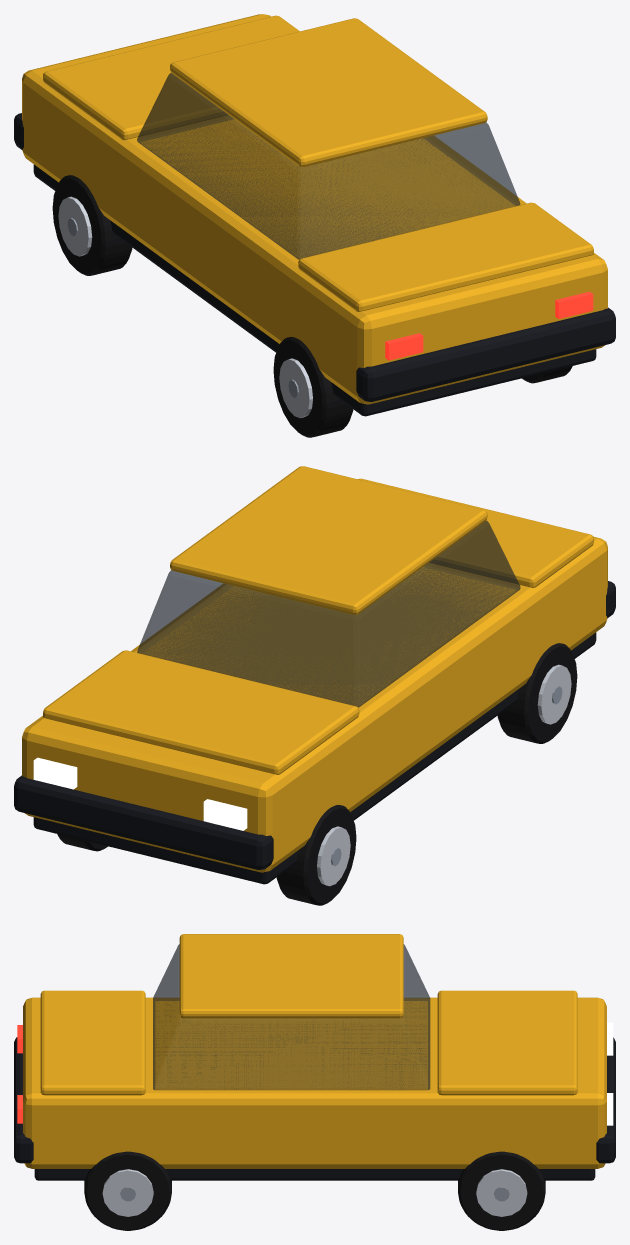
Rendered from veh_taxi.glb.
The picture shows the model from 3 angles, top to bottom: view 1: azimuth 30°, elevation 25°; view 2: azimuth 150°, elevation 25°; view 3: azimuth 270°, elevation 25°; orthographic projection. The views are drawn at different scales.
Parts seen in each view (by area): view 1: Body, Glass, Roof, Boot, Hood, Bumper_R, Skirt, Wheel_RL, Wheel_FL, Wheel_FL_Rim, Wheel_RL_Rim, Taillight_L (+1 smaller); view 2: Body, Glass, Roof, Hood, Bumper_F, Boot, Skirt, Wheel_FL, Wheel_RL, Wheel_RL_Rim, Wheel_FL_Rim, Headlight_R (+1 smaller); view 3: Body, Glass, Roof, Hood, Boot, Skirt, Wheel_FR, Wheel_RR, Wheel_FR_Rim, Wheel_RR_Rim, Bumper_R, Bumper_F.
Boxes of the visible parts, box(x1,y1,x2,y2) form: Body: box(22, 14, 607, 404); Glass: box(137, 73, 520, 259); Roof: box(170, 18, 487, 167); Boot: box(298, 202, 593, 311); Hood: box(43, 15, 299, 140); Bumper_R: box(356, 307, 615, 401); Skirt: box(33, 164, 596, 416); Wheel_RL: box(273, 337, 353, 437); Wheel_FL: box(52, 175, 132, 275); Wheel_FL_Rim: box(58, 196, 92, 256); Wheel_RL_Rim: box(279, 358, 312, 418); Taillight_L: box(385, 333, 423, 360); Body: box(22, 537, 607, 872); Glass: box(137, 520, 520, 707); Roof: box(170, 466, 487, 614); Hood: box(43, 650, 359, 774); Bumper_F: box(14, 775, 273, 869); Boot: box(358, 478, 593, 587); Skirt: box(33, 632, 596, 884); Wheel_FL: box(276, 805, 356, 905); Wheel_RL: box(497, 643, 577, 743); Wheel_RL_Rim: box(537, 664, 571, 724); Wheel_FL_Rim: box(317, 826, 350, 886); Headlight_R: box(33, 757, 77, 789); Body: box(23, 997, 606, 1168); Glass: box(153, 944, 430, 1090); Roof: box(179, 934, 403, 1018); Hood: box(437, 990, 577, 1095); Boot: box(40, 990, 145, 1095); Skirt: box(34, 1169, 595, 1180); Wheel_FR: box(458, 1151, 545, 1230); Wheel_RR: box(84, 1151, 171, 1230); Wheel_FR_Rim: box(476, 1169, 527, 1216); Wheel_RR_Rim: box(102, 1169, 153, 1216); Bumper_R: box(14, 1037, 33, 1163); Bumper_F: box(596, 1037, 615, 1163).
Size of the model in its own units: 1.99 by 1.77 by 4.64.
